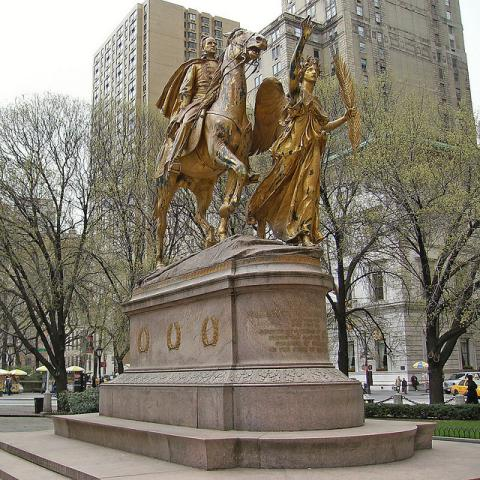car: (443, 372, 480, 394), (451, 379, 480, 398), (101, 375, 111, 381)
